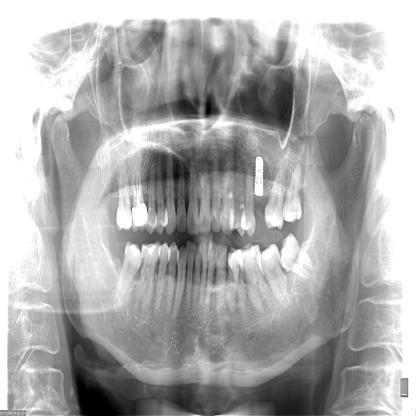ITI: (249, 146, 268, 200)
